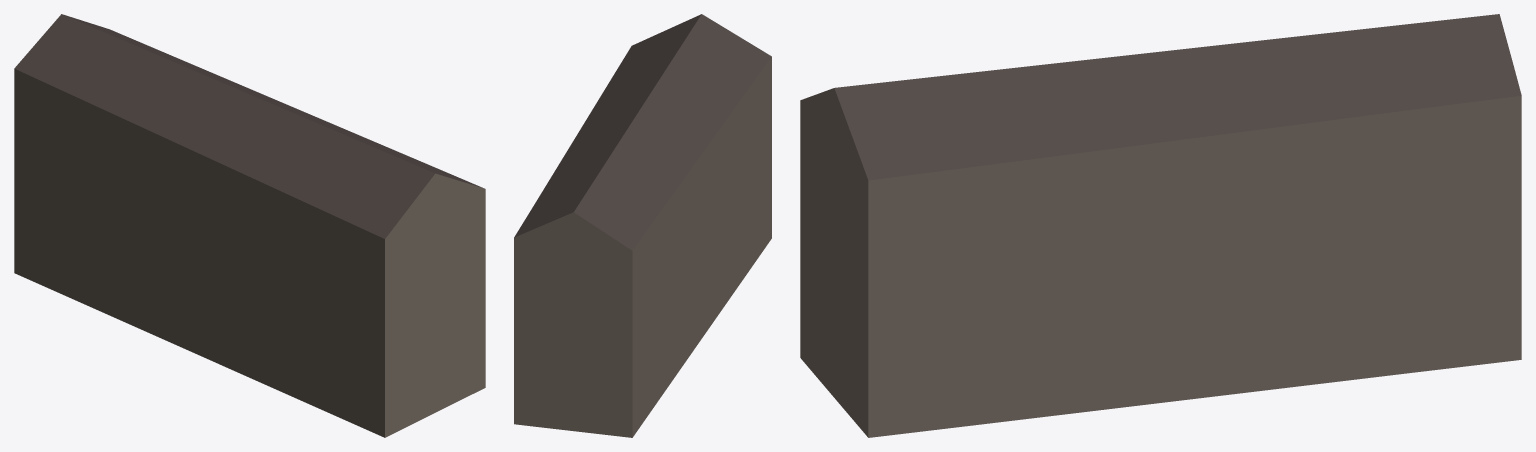
The picture shows the model from 3 angles, left to right: view 1: azimuth 30°, elevation 25°; view 2: azimuth 150°, elevation 25°; view 3: azimuth 270°, elevation 25°; orthographic projection. The views are drawn at different scales.
Visible parts, largest first — view 1: HP-w783664792; view 2: HP-w783664792; view 3: HP-w783664792.
Part boxes in pixels (box(x1,y1,x2,y2)): HP-w783664792: box(14, 14, 485, 437); HP-w783664792: box(514, 14, 771, 437); HP-w783664792: box(800, 14, 1521, 437).
Bounding box in the file's own units: 7.46 × 7.23 × 15.25.
